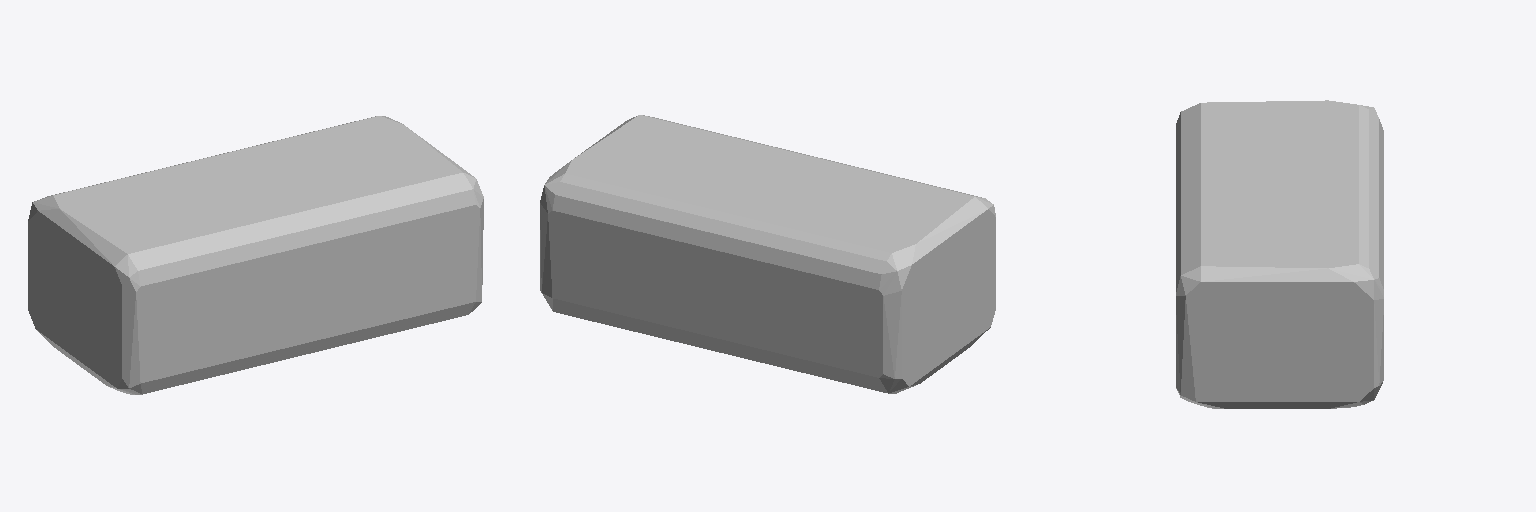
The model's file is block.obj.
The picture shows the model from 3 angles: view 1: azimuth 30°, elevation 25°; view 2: azimuth 150°, elevation 25°; view 3: azimuth 270°, elevation 25°; orthographic projection.
Visible parts, largest first — view 1: convex_0; view 2: convex_0; view 3: convex_0.
Part boxes in pixels (x1,y1,x2,y2): convex_0: (28, 116, 483, 394); convex_0: (540, 115, 995, 393); convex_0: (1176, 100, 1383, 408).
Size of the model in its own units: 51.43 by 19.44 by 25.71.